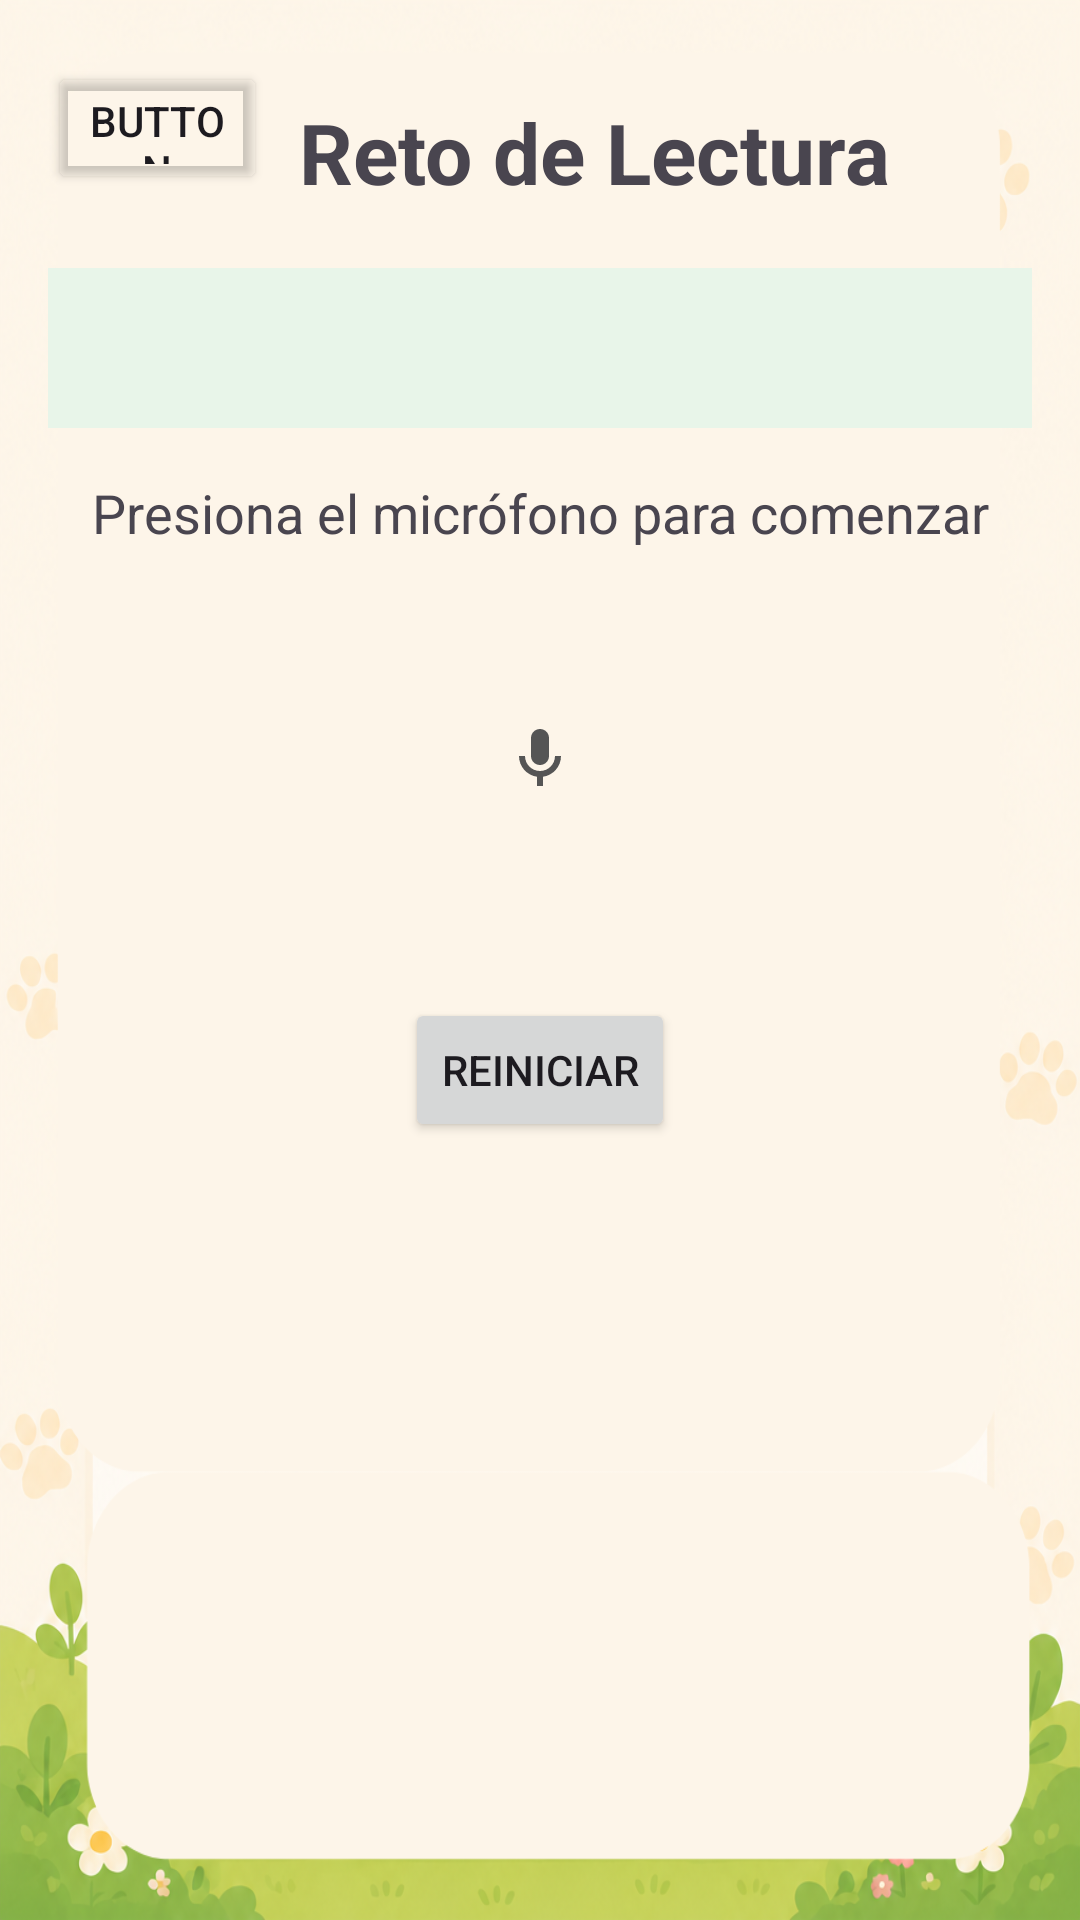

Where icons sit on this 1080px x 1920px app screen, as (x1, y1, x2, y2):
mic: (519, 729, 561, 786)
